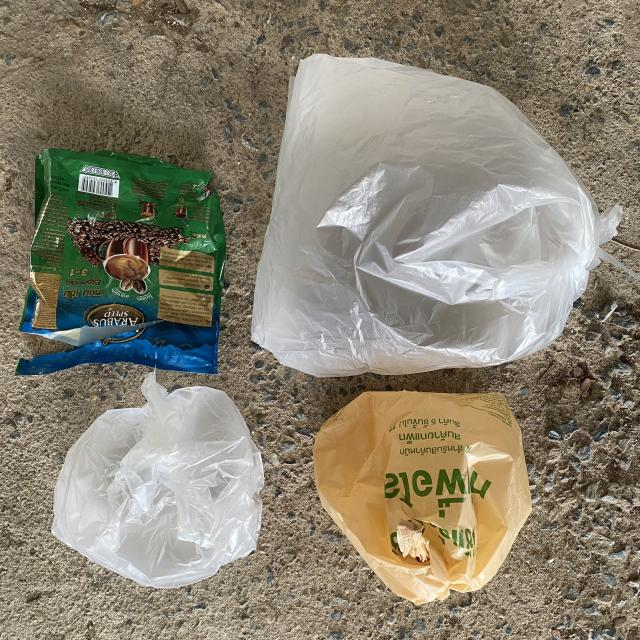Single-layer Plastic: (251, 55, 621, 376), (51, 372, 264, 589), (314, 391, 531, 604)
